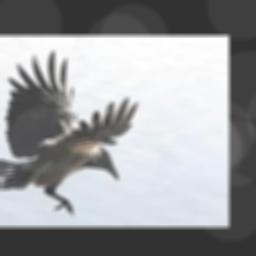Crow: (0, 49, 137, 216)
